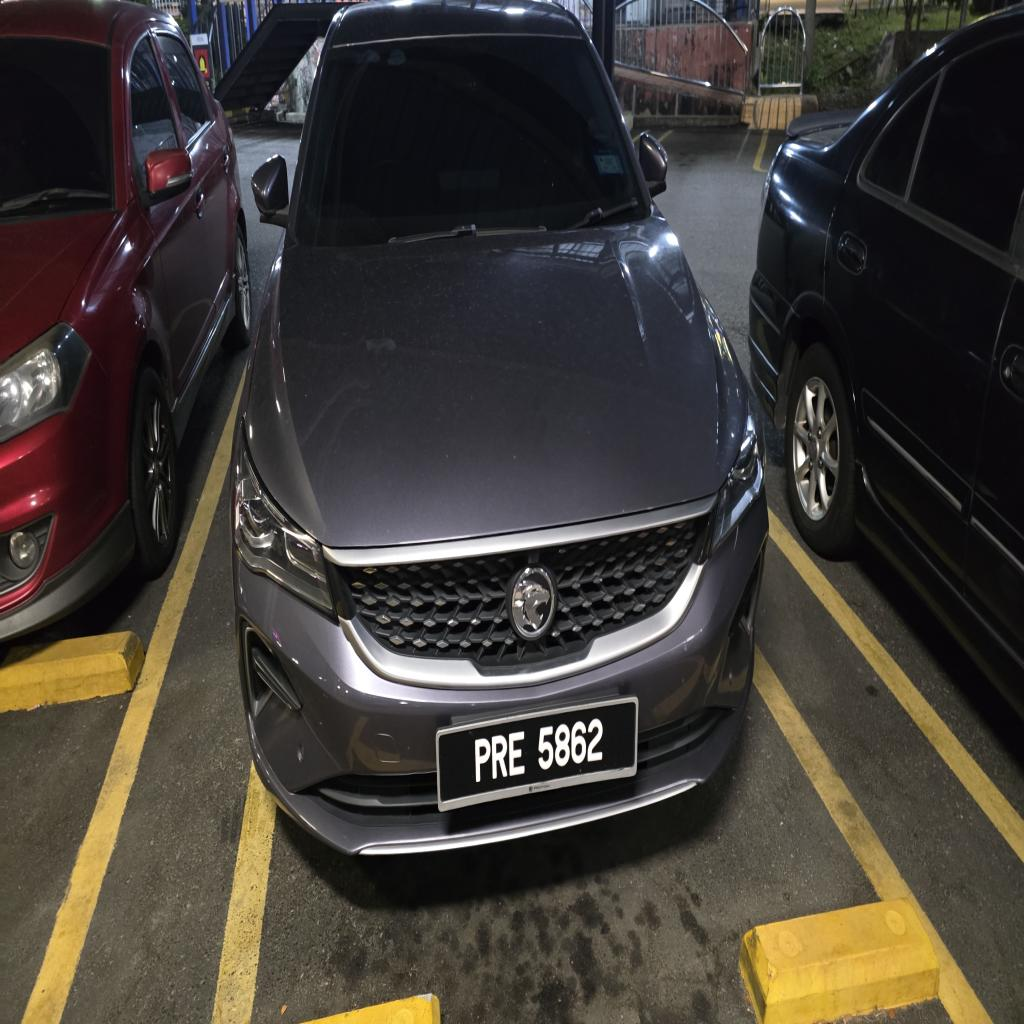car: (231, 0, 767, 852)
car plate: (436, 696, 638, 810)
